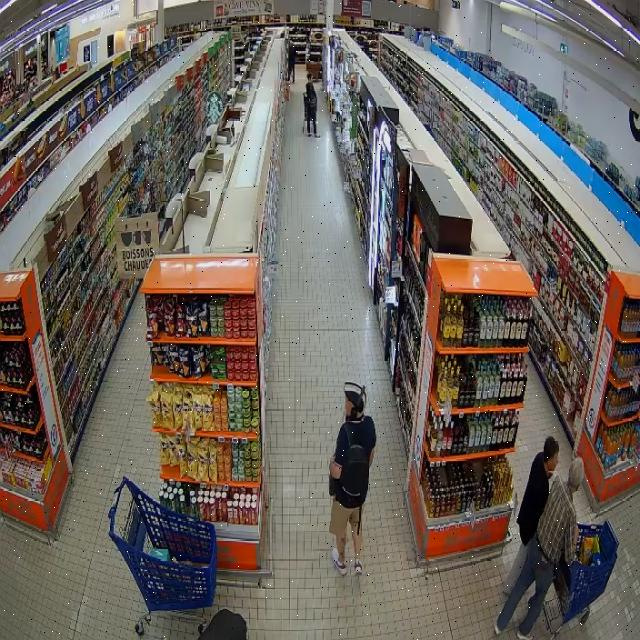bags: (340, 422, 369, 505), (309, 92, 317, 110)
person: (495, 458, 583, 639), (503, 437, 559, 595), (330, 383, 376, 575), (306, 75, 318, 137)
